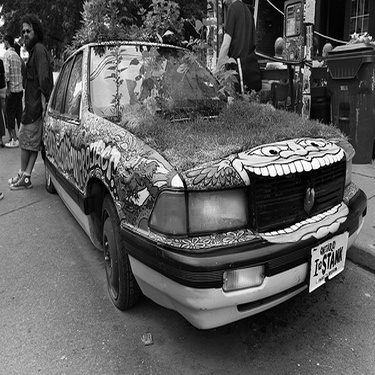car: (36, 24, 365, 333)
